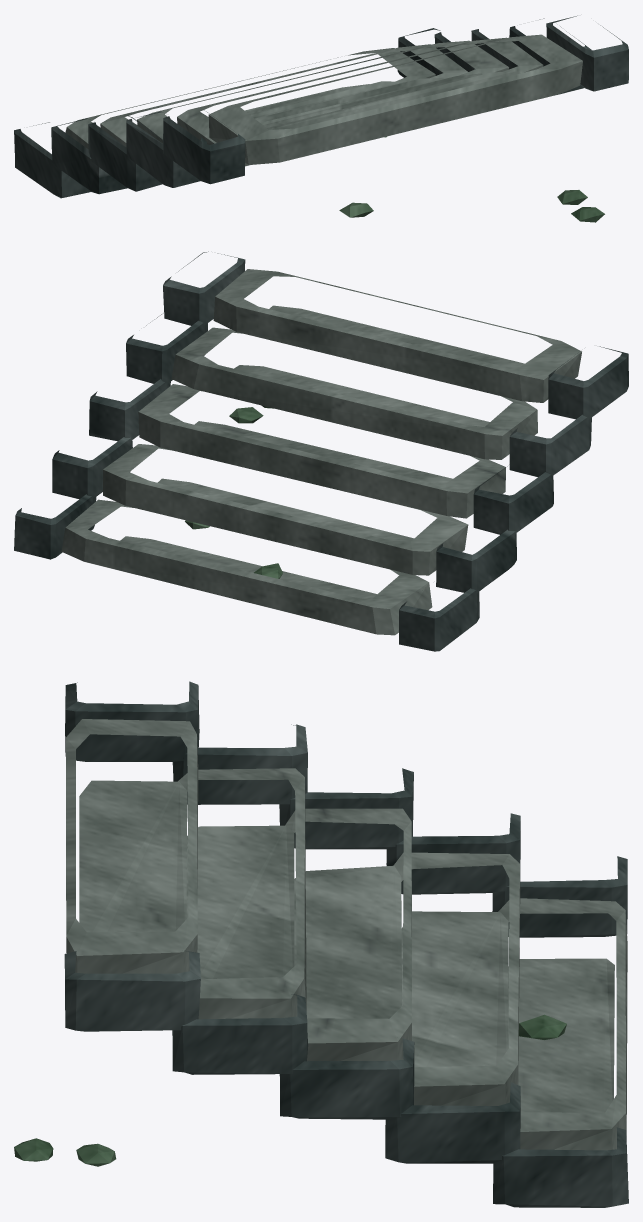
File: 0371_stairs_21.glb
3 renders of one model, top to bottom at view 1: azimuth 30°, elevation 25°; view 2: azimuth 150°, elevation 25°; view 3: azimuth 270°, elevation 25°, orthographic. The views are drawn at different scales.
Parts seen in each view (by area): view 1: stone, stone_dark, moss; view 2: stone, stone_dark, moss; view 3: stone, stone_dark, moss.
Boxes of the visible parts, x1,y1,x2,y2 form: stone: (65, 34, 582, 166); stone_dark: (14, 15, 628, 198); moss: (339, 136, 604, 222); stone: (61, 269, 581, 635); stone_dark: (14, 251, 628, 651); moss: (185, 405, 282, 578); stone: (66, 719, 627, 1150); stone_dark: (64, 681, 628, 1207); moss: (14, 1014, 566, 1166).
Size of the model in its own units: 2.91 by 1.07 by 2.53.
3 materials, 3 textured.
